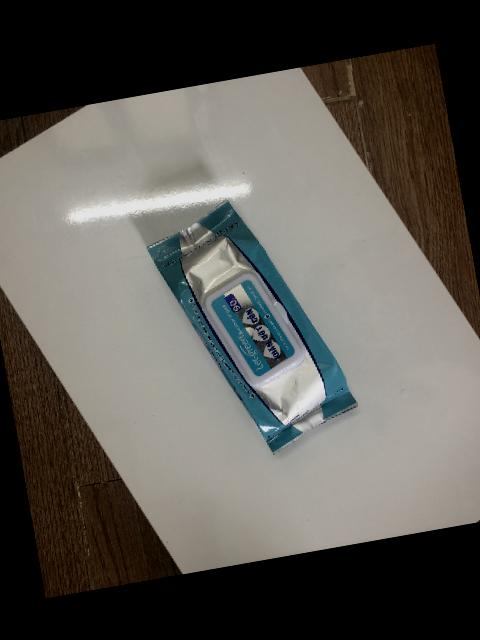Let-green_alcohol_wipes: (148, 200, 359, 453)
